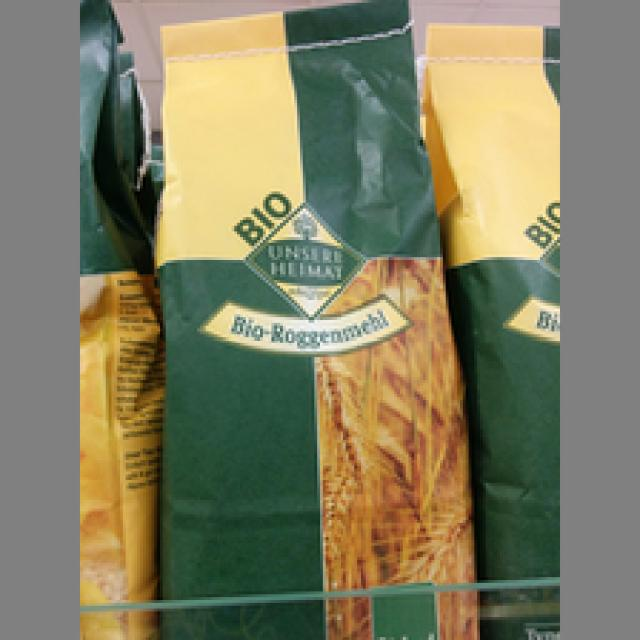groceries: (163, 0, 480, 634)
